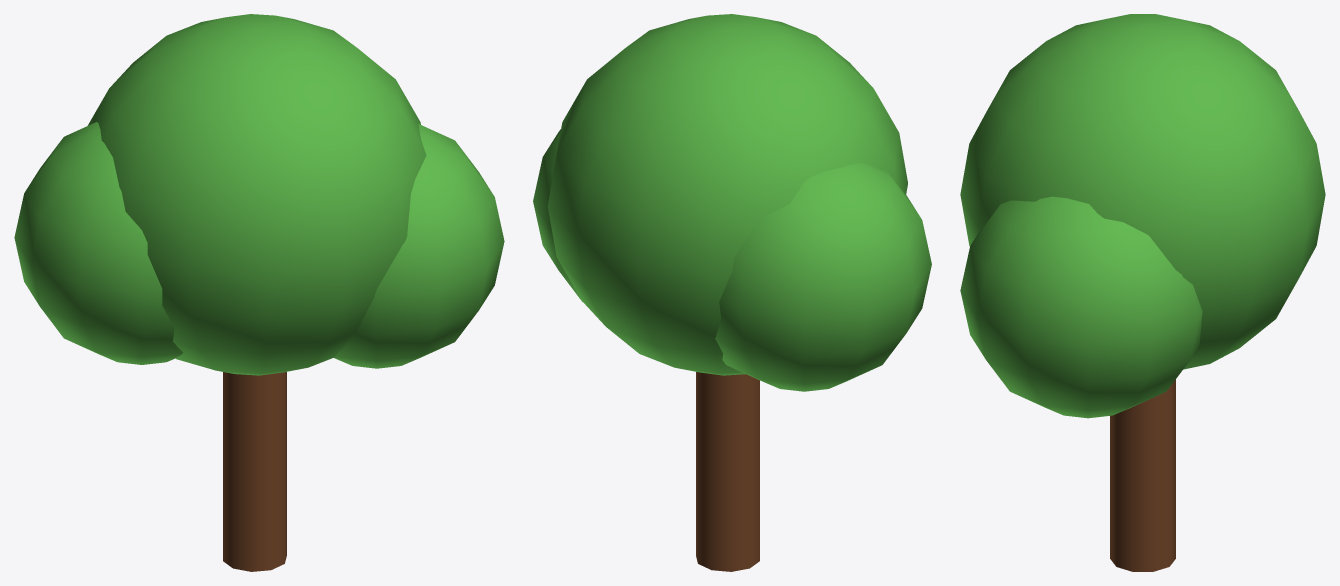
The model's file is tree_round.glb.
3 views of the same model, side by side, from view 1: azimuth 30°, elevation 25°; view 2: azimuth 150°, elevation 25°; view 3: azimuth 270°, elevation 25° (orthographic).
Visible parts, largest first — view 1: tree_round; view 2: tree_round; view 3: tree_round.
Part boxes in pixels (x1,y1,x2,y2): tree_round: [14, 14, 504, 571]; tree_round: [533, 14, 931, 571]; tree_round: [960, 14, 1325, 571].
Size of the model in its own units: 2.6 by 3.2 by 2.
